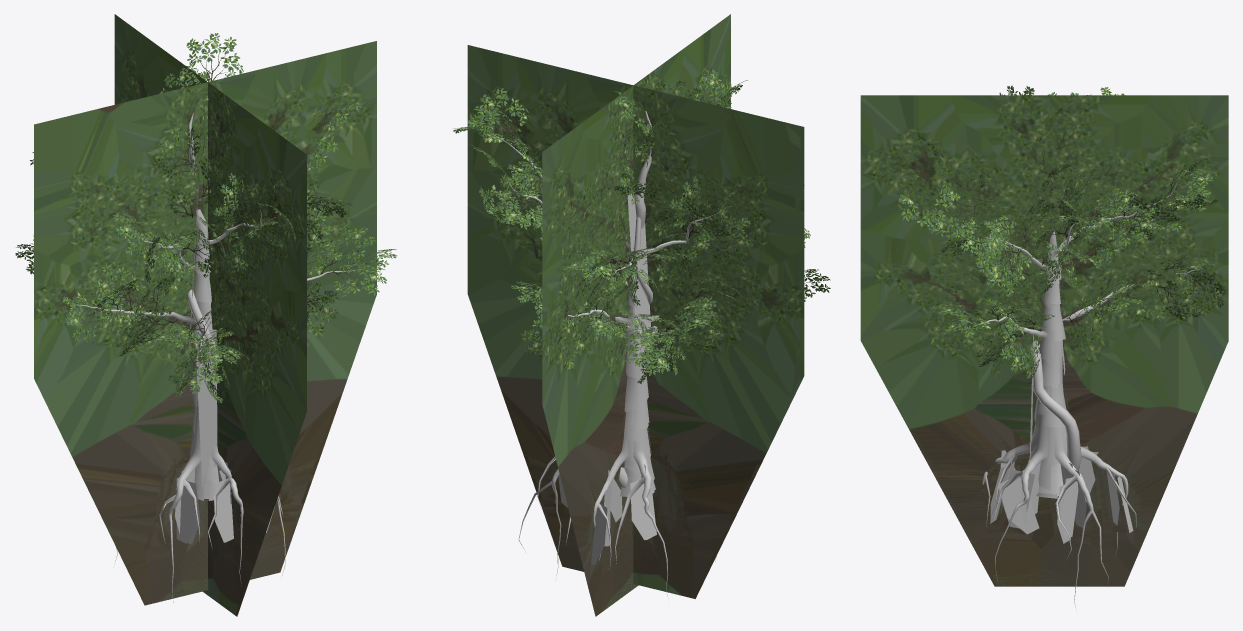
File: Mangrove2.fbx
3 views of the same model, side by side, from view 1: azimuth 30°, elevation 25°; view 2: azimuth 150°, elevation 25°; view 3: azimuth 270°, elevation 25° (orthographic). The views are drawn at different scales.
Parts seen in each view (by area): view 1: Billboard, LOD0; view 2: Billboard, LOD0; view 3: Billboard, LOD0.
Boxes of the visible parts, x1=… form: Billboard: x1=34, y1=14, x2=376, y2=616; LOD0: x1=15, y1=33, x2=397, y2=602; Billboard: x1=467, y1=14, x2=804, y2=616; LOD0: x1=453, y1=69, x2=830, y2=596; Billboard: x1=860, y1=95, x2=1228, y2=586; LOD0: x1=898, y1=85, x2=1225, y2=610.
Size of what is drawn, in the model's own units: 462 by 663 by 440.
